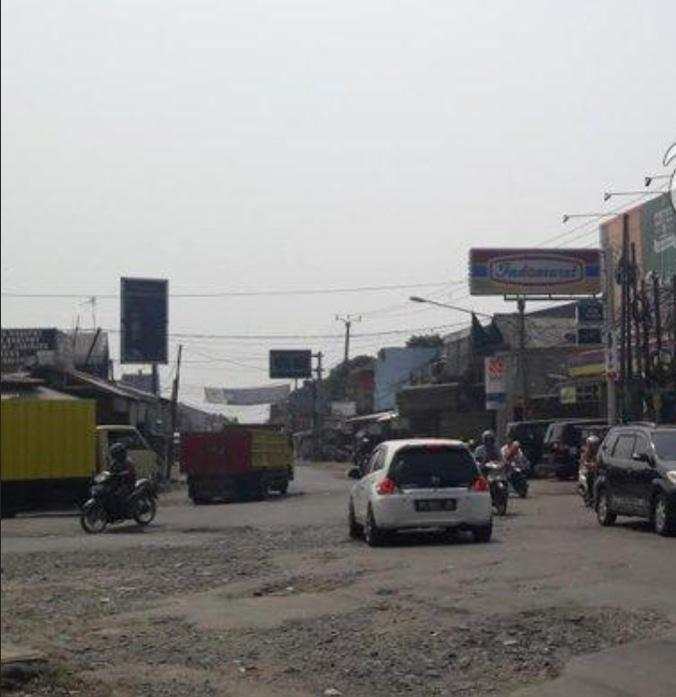Pothole: (13, 537, 662, 697)
